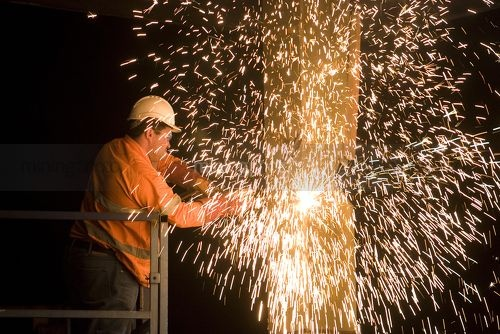white: (128, 93, 176, 160)
